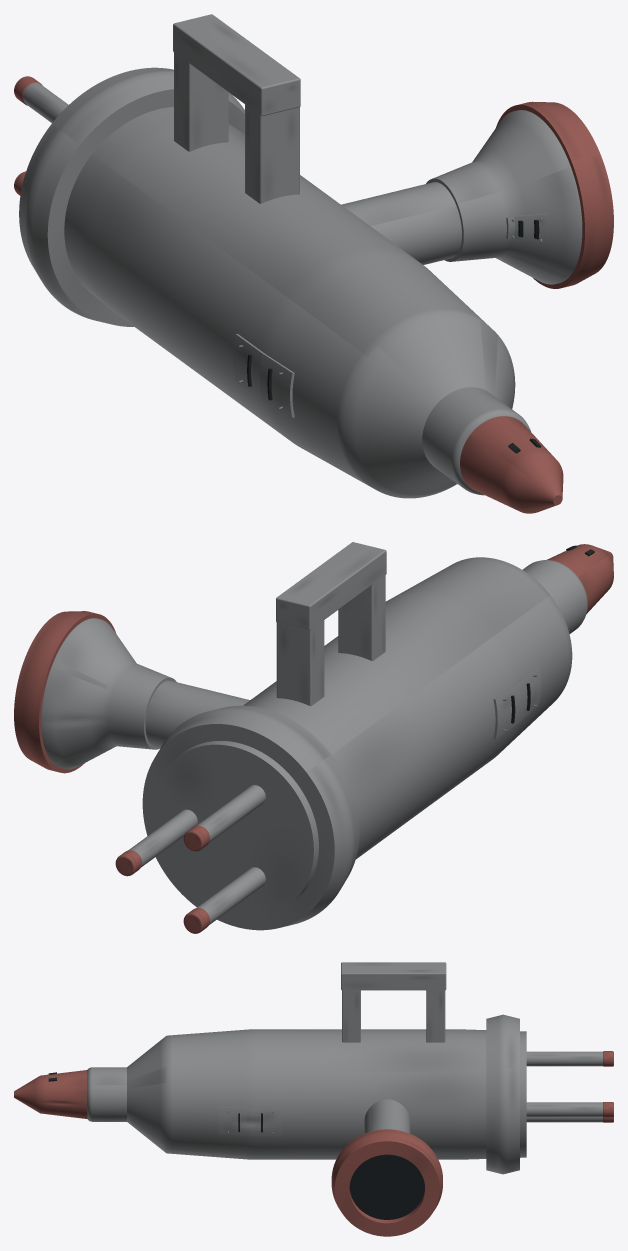
The picture shows the model from 3 angles, top to bottom: view 1: azimuth 30°, elevation 25°; view 2: azimuth 150°, elevation 25°; view 3: azimuth 270°, elevation 25°; orthographic projection. The views are drawn at different scales.
Visible parts, largest first — view 1: Ion axial housing, Ion side flare, Ion rear collar, Ion red front, Ion bracket top, Ion red side rim, Ion transverse stem, Ion bracket upright 0, Ion front neck, Ion bracket upright 1, Ion service cover 1, Ion rear prong 1 (+1 smaller); view 2: Ion axial housing, Ion rear collar, Ion side flare, Ion bracket top, Ion red side rim, Ion bracket upright 1, Ion transverse stem, Ion bracket upright 0, Ion front neck, Ion red front, Ion service cover 1, Ion rear prong 2 (+5 smaller); view 3: Ion axial housing, Ion red side rim, Ion rear collar, Ion side dark backing, Ion bracket top, Ion red front, Ion front neck, Ion service cover 0, Ion transverse stem, Ion rear prong 1, Ion rear prong 0, Ion bracket upright 1 (+2 smaller).
Part boxes in pixels (x1,y1,x2,y2): Ion axial housing: [64, 107, 515, 498]; Ion side flare: [426, 110, 582, 284]; Ion rear collar: [19, 67, 244, 326]; Ion red front: [460, 416, 563, 513]; Ion bracket top: [173, 14, 300, 116]; Ion red side rim: [496, 101, 613, 288]; Ion transverse stem: [341, 182, 461, 264]; Ion bracket upright 0: [245, 104, 299, 203]; Ion front neck: [422, 387, 530, 495]; Ion bracket upright 1: [174, 47, 228, 151]; Ion service cover 1: [233, 334, 294, 417]; Ion rear prong 1: [23, 83, 68, 122]; Ion axial housing: [154, 557, 572, 916]; Ion rear collar: [142, 705, 359, 930]; Ion side flare: [41, 618, 176, 769]; Ion bracket top: [276, 542, 386, 630]; Ion red side rim: [14, 611, 115, 773]; Ion bracket upright 1: [276, 616, 324, 706]; Ion transverse stem: [145, 680, 249, 747]; Ion bracket upright 0: [338, 575, 385, 660]; Ion front neck: [522, 560, 587, 633]; Ion red front: [547, 544, 613, 613]; Ion service cover 1: [493, 665, 540, 739]; Ion rear prong 2: [197, 867, 265, 924]; Ion axial housing: [127, 1029, 526, 1159]; Ion red side rim: [331, 1129, 442, 1236]; Ion rear collar: [486, 1014, 519, 1174]; Ion side dark backing: [349, 1154, 424, 1219]; Ion bracket top: [341, 962, 446, 990]; Ion red front: [14, 1070, 87, 1118]; Ion front neck: [87, 1067, 126, 1121]; Ion service cover 0: [219, 1107, 282, 1135]; Ion transverse stem: [364, 1099, 410, 1133]; Ion rear prong 1: [526, 1051, 602, 1066]; Ion rear prong 0: [526, 1102, 602, 1116]; Ion bracket upright 1: [426, 986, 445, 1042].
Size of the model in its own units: 1.44 by 1.05 by 2.85.
4 materials, 2 textured.
